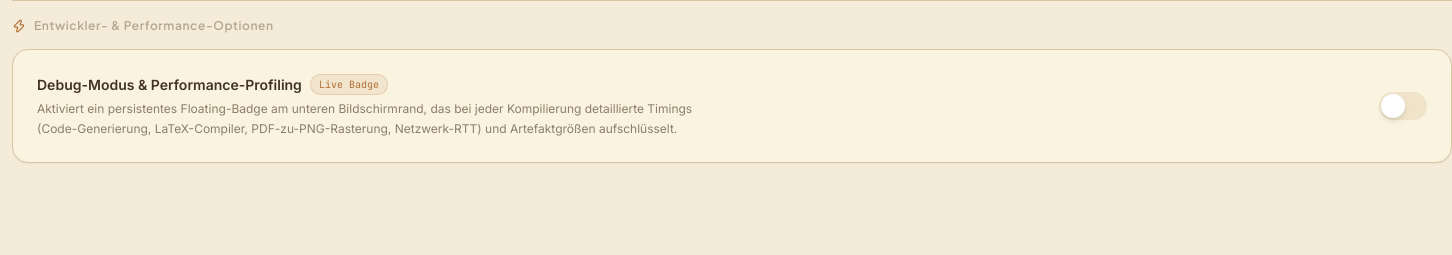
Test case: Settings & Persistenz (Erscheinungsbild & Performance) › PerformanceSection (Debug-Modus & Engine Persistenz) › schaltet Debug-Modus per Switch um und persistiert den Zustand im localStorage
Check: the text "Standard LaTeX-Compiler-Engine" is not shown
Click the switch named "Debug-Modus": (1403, 106) [1379,92,1427,120]
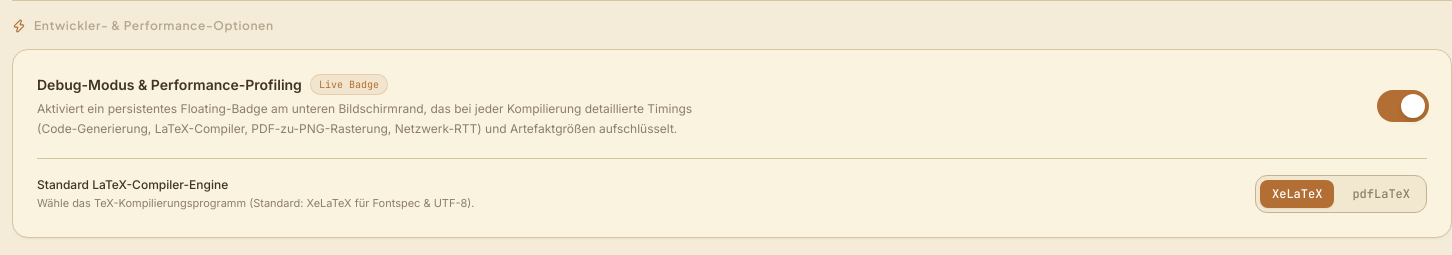
Check: the text "Standard LaTeX-Compiler-Engine" is shown, box [37,177,228,192]
Click the switch named "Debug-Modus": (1403, 106) [1379,92,1427,120]
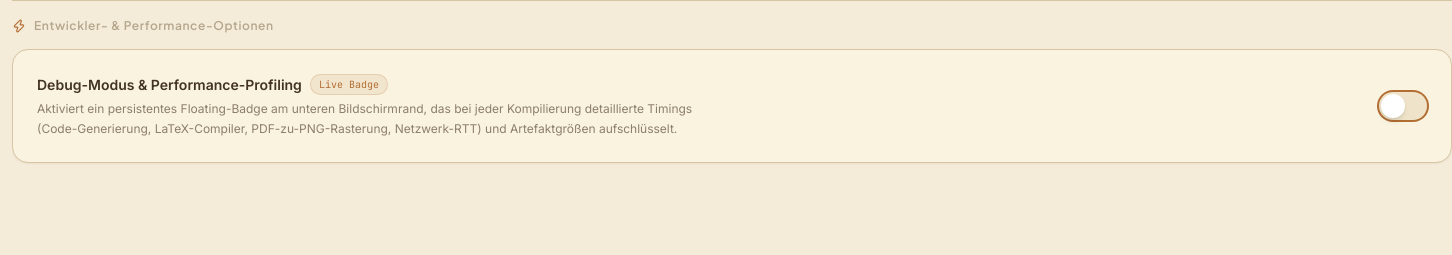
Check: the text "Standard LaTeX-Compiler-Engine" is gone
